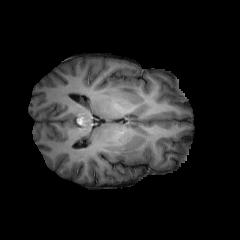glioma: (114, 82, 153, 161)
